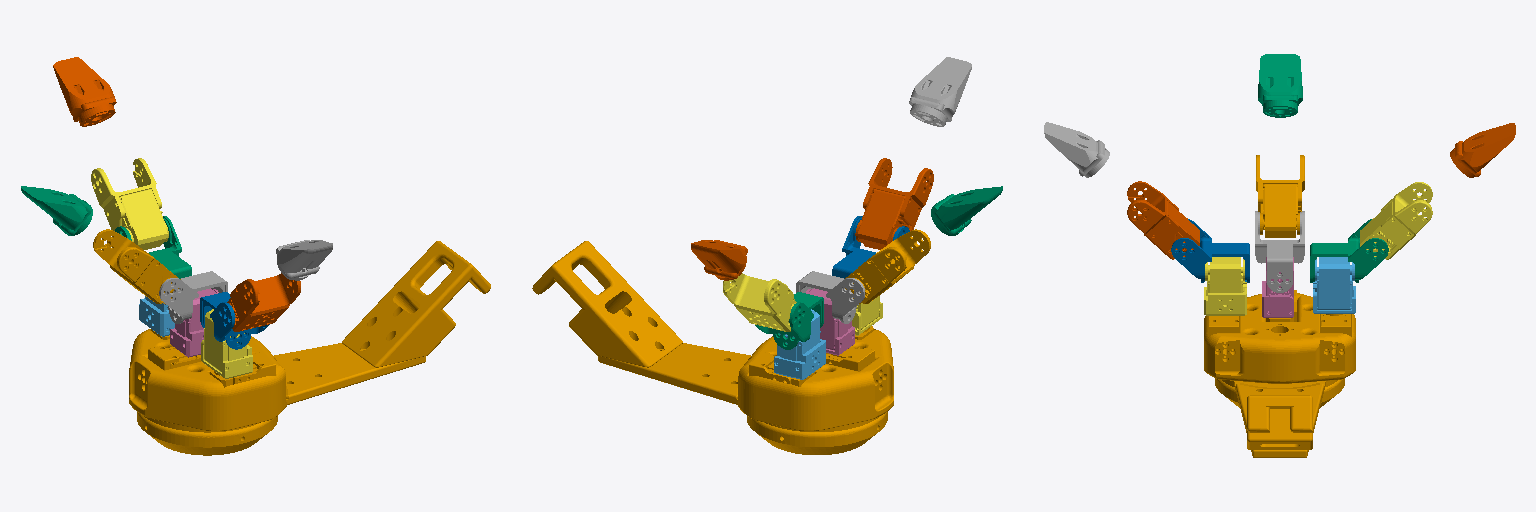
The robot description file, URDF, robot "dexremo_hand":
<?xml version="1.0"?>
<!-- DexRemo three-finger hand. Generated from the STEP assembly; see README for assumptions. -->
<robot name="dexremo_hand">
  <link name="base_link">
    <inertial><origin xyz="0.033405 0.000009 0.048806"/><mass value="1.18165"/><inertia ixx="2.098e-03" ixy="4.146e-06" ixz="-5.831e-04" iyy="8.608e-03" iyz="-4.166e-07" izz="9.446e-03"/></inertial>
    <visual><geometry><mesh filename="../meshes/dexremo_hand/visual/base_link.stl"/></geometry></visual>
    <collision><geometry><mesh filename="../meshes/dexremo_hand/collision/base_link_0.stl"/></geometry></collision>
    <collision><geometry><mesh filename="../meshes/dexremo_hand/collision/base_link_1.stl"/></geometry></collision>
    <collision><geometry><mesh filename="../meshes/dexremo_hand/collision/base_link_2.stl"/></geometry></collision>
    <collision><geometry><mesh filename="../meshes/dexremo_hand/collision/base_link_3.stl"/></geometry></collision>
    <collision><geometry><mesh filename="../meshes/dexremo_hand/collision/base_link_4.stl"/></geometry></collision>
    <collision><geometry><mesh filename="../meshes/dexremo_hand/collision/base_link_5.stl"/></geometry></collision>
    <collision><geometry><mesh filename="../meshes/dexremo_hand/collision/base_link_6.stl"/></geometry></collision>
    <collision><geometry><mesh filename="../meshes/dexremo_hand/collision/base_link_7.stl"/></geometry></collision>
    <collision><geometry><mesh filename="../meshes/dexremo_hand/collision/base_link_8.stl"/></geometry></collision>
    <collision><geometry><mesh filename="../meshes/dexremo_hand/collision/base_link_9.stl"/></geometry></collision>
    <collision><geometry><mesh filename="../meshes/dexremo_hand/collision/base_link_10.stl"/></geometry></collision>
  </link>
  <link name="left_cmc1_link">
    <inertial><origin xyz="-0.000829 -0.000130 0.042133"/><mass value="0.06543"/><inertia ixx="1.978e-05" ixy="-2.319e-08" ixz="-6.846e-07" iyy="1.667e-05" iyz="-1.726e-07" izz="1.071e-05"/></inertial>
    <visual><geometry><mesh filename="../meshes/dexremo_hand/visual/left_cmc1_link.stl"/></geometry></visual>
    <collision><geometry><mesh filename="../meshes/dexremo_hand/collision/left_cmc1_link_0.stl"/></geometry></collision>
    <collision><geometry><mesh filename="../meshes/dexremo_hand/collision/left_cmc1_link_1.stl"/></geometry></collision>
  </link>
  <joint name="left_cmc1" type="revolute"><parent link="base_link"/><child link="left_cmc1_link"/><origin xyz="-0.010908 0.049950 0.063442"/><axis xyz="0.000000 0.000000 -1.000000"/><limit lower="-1.5708" upper="1.5708" effort="1.90" velocity="4.70"/><dynamics damping="0.1"/></joint>
  <link name="left_cmc2_link">
    <inertial><origin xyz="-0.000127 0.013888 0.015825"/><mass value="0.01913"/><inertia ixx="9.806e-06" ixy="1.059e-07" ixz="4.325e-08" iyy="6.207e-06" iyz="-1.503e-06" izz="1.157e-05"/></inertial>
    <visual><geometry><mesh filename="../meshes/dexremo_hand/visual/left_cmc2_link.stl"/></geometry></visual>
    <collision><geometry><mesh filename="../meshes/dexremo_hand/collision/left_cmc2_link_0.stl"/></geometry></collision>
  </link>
  <joint name="left_cmc2" type="revolute"><parent link="left_cmc1_link"/><child link="left_cmc2_link"/><origin xyz="0.000000 -0.000100 0.058000"/><axis xyz="0.000000 -1.000000 0.000000"/><limit lower="-1.5708" upper="1.5708" effort="1.90" velocity="4.70"/><dynamics damping="0.1"/></joint>
  <link name="left_mcp_link">
    <inertial><origin xyz="-0.000258 0.013788 0.011813"/><mass value="0.07467"/><inertia ixx="2.426e-05" ixy="1.303e-08" ixz="-3.361e-08" iyy="2.189e-05" iyz="-7.499e-06" izz="2.261e-05"/></inertial>
    <visual><geometry><mesh filename="../meshes/dexremo_hand/visual/left_mcp_link.stl"/></geometry></visual>
    <collision><geometry><mesh filename="../meshes/dexremo_hand/collision/left_mcp_link_0.stl"/></geometry></collision>
    <collision><geometry><mesh filename="../meshes/dexremo_hand/collision/left_mcp_link_1.stl"/></geometry></collision>
  </link>
  <joint name="left_mcp" type="revolute"><parent link="left_cmc2_link"/><child link="left_mcp_link"/><origin xyz="0.000300 0.037800 0.030000"/><axis xyz="-1.000000 0.000000 0.000000"/><limit lower="-1.5708" upper="1.5708" effort="1.90" velocity="4.70"/><dynamics damping="0.1"/></joint>
  <link name="left_ip_link">
    <inertial><origin xyz="-0.000092 0.017236 0.017179"/><mass value="0.08726"/><inertia ixx="3.746e-05" ixy="-1.104e-07" ixz="-1.440e-07" iyy="2.639e-05" iyz="-1.357e-05" izz="2.659e-05"/></inertial>
    <visual><geometry><mesh filename="../meshes/dexremo_hand/visual/left_ip_link.stl"/></geometry></visual>
    <collision><geometry><mesh filename="../meshes/dexremo_hand/collision/left_ip_link_0.stl"/></geometry></collision>
    <collision><geometry><mesh filename="../meshes/dexremo_hand/collision/left_ip_link_1.stl"/></geometry></collision>
    <collision><geometry><mesh filename="../meshes/dexremo_hand/collision/left_ip_link_2.stl"/></geometry></collision>
    <collision><geometry><mesh filename="../meshes/dexremo_hand/collision/left_ip_link_3.stl"/></geometry></collision>
    <collision><geometry><mesh filename="../meshes/dexremo_hand/collision/left_ip_link_4.stl"/></geometry></collision>
    <collision><geometry><mesh filename="../meshes/dexremo_hand/collision/left_ip_link_5.stl"/></geometry></collision>
  </link>
  <joint name="left_ip" type="revolute"><parent link="left_mcp_link"/><child link="left_ip_link"/><origin xyz="0.000200 0.040447 0.037618"/><axis xyz="-1.000000 0.000000 0.000000"/><limit lower="-1.5708" upper="1.5708" effort="1.90" velocity="4.70"/><dynamics damping="0.1"/></joint>
  <link name="left_tip">
    <inertial><origin xyz="0.000000 0.022693 0.016960"/><mass value="0.03756"/><inertia ixx="1.581e-05" ixy="-5.619e-14" ixz="-3.162e-14" iyy="1.097e-05" iyz="-7.728e-07" izz="1.525e-05"/></inertial>
    <visual><geometry><mesh filename="../meshes/dexremo_hand/visual/left_tip.stl"/></geometry></visual>
    <collision><geometry><mesh filename="../meshes/dexremo_hand/collision/left_tip_0.stl"/></geometry></collision>
    <collision><geometry><mesh filename="../meshes/dexremo_hand/collision/left_tip_1.stl"/></geometry></collision>
  </link>
  <joint name="left_tip_fixed" type="fixed"><parent link="left_ip_link"/><child link="left_tip"/><origin xyz="-0.000100 0.035461 0.035473"/></joint>
  <link name="mid_cmc1_link">
    <inertial><origin xyz="0.000130 -0.000829 0.042133"/><mass value="0.06543"/><inertia ixx="1.667e-05" ixy="2.319e-08" ixz="1.726e-07" iyy="1.978e-05" iyz="-6.846e-07" izz="1.071e-05"/></inertial>
    <visual><geometry><mesh filename="../meshes/dexremo_hand/visual/mid_cmc1_link.stl"/></geometry></visual>
    <collision><geometry><mesh filename="../meshes/dexremo_hand/collision/mid_cmc1_link_0.stl"/></geometry></collision>
    <collision><geometry><mesh filename="../meshes/dexremo_hand/collision/mid_cmc1_link_1.stl"/></geometry></collision>
  </link>
  <joint name="mid_cmc1" type="revolute"><parent link="base_link"/><child link="mid_cmc1_link"/><origin xyz="-0.009008 -0.000050 0.063442"/><axis xyz="0.000000 0.000000 -1.000000"/><limit lower="-1.5708" upper="1.5708" effort="1.90" velocity="4.70"/><dynamics damping="0.1"/></joint>
  <link name="mid_cmc2_link">
    <inertial><origin xyz="-0.013888 -0.000127 0.015825"/><mass value="0.01913"/><inertia ixx="6.207e-06" ixy="-1.059e-07" ixz="1.503e-06" iyy="9.806e-06" iyz="4.325e-08" izz="1.157e-05"/></inertial>
    <visual><geometry><mesh filename="../meshes/dexremo_hand/visual/mid_cmc2_link.stl"/></geometry></visual>
    <collision><geometry><mesh filename="../meshes/dexremo_hand/collision/mid_cmc2_link_0.stl"/></geometry></collision>
  </link>
  <joint name="mid_cmc2" type="revolute"><parent link="mid_cmc1_link"/><child link="mid_cmc2_link"/><origin xyz="0.000100 0.000000 0.058000"/><axis xyz="1.000000 0.000000 0.000000"/><limit lower="-1.5708" upper="1.5708" effort="1.90" velocity="4.70"/><dynamics damping="0.1"/></joint>
  <link name="mid_mcp_link">
    <inertial><origin xyz="-0.013788 -0.000258 0.011813"/><mass value="0.07467"/><inertia ixx="2.189e-05" ixy="-1.303e-08" ixz="7.499e-06" iyy="2.426e-05" iyz="-3.361e-08" izz="2.261e-05"/></inertial>
    <visual><geometry><mesh filename="../meshes/dexremo_hand/visual/mid_mcp_link.stl"/></geometry></visual>
    <collision><geometry><mesh filename="../meshes/dexremo_hand/collision/mid_mcp_link_0.stl"/></geometry></collision>
    <collision><geometry><mesh filename="../meshes/dexremo_hand/collision/mid_mcp_link_1.stl"/></geometry></collision>
  </link>
  <joint name="mid_mcp" type="revolute"><parent link="mid_cmc2_link"/><child link="mid_mcp_link"/><origin xyz="-0.037800 0.000300 0.030000"/><axis xyz="0.000000 -1.000000 0.000000"/><limit lower="-1.5708" upper="1.5708" effort="1.90" velocity="4.70"/><dynamics damping="0.1"/></joint>
  <link name="mid_ip_link">
    <inertial><origin xyz="-0.017236 -0.000092 0.017179"/><mass value="0.08726"/><inertia ixx="2.639e-05" ixy="1.104e-07" ixz="1.357e-05" iyy="3.746e-05" iyz="-1.440e-07" izz="2.659e-05"/></inertial>
    <visual><geometry><mesh filename="../meshes/dexremo_hand/visual/mid_ip_link.stl"/></geometry></visual>
    <collision><geometry><mesh filename="../meshes/dexremo_hand/collision/mid_ip_link_0.stl"/></geometry></collision>
    <collision><geometry><mesh filename="../meshes/dexremo_hand/collision/mid_ip_link_1.stl"/></geometry></collision>
    <collision><geometry><mesh filename="../meshes/dexremo_hand/collision/mid_ip_link_2.stl"/></geometry></collision>
    <collision><geometry><mesh filename="../meshes/dexremo_hand/collision/mid_ip_link_3.stl"/></geometry></collision>
    <collision><geometry><mesh filename="../meshes/dexremo_hand/collision/mid_ip_link_4.stl"/></geometry></collision>
    <collision><geometry><mesh filename="../meshes/dexremo_hand/collision/mid_ip_link_5.stl"/></geometry></collision>
  </link>
  <joint name="mid_ip" type="revolute"><parent link="mid_mcp_link"/><child link="mid_ip_link"/><origin xyz="-0.040447 0.000200 0.037618"/><axis xyz="0.000000 -1.000000 0.000000"/><limit lower="-1.5708" upper="1.5708" effort="1.90" velocity="4.70"/><dynamics damping="0.1"/></joint>
  <link name="mid_tip">
    <inertial><origin xyz="-0.022803 0.000000 0.017035"/><mass value="0.03961"/><inertia ixx="1.158e-05" ixy="-1.362e-13" ixz="7.788e-07" iyy="1.665e-05" iyz="9.885e-14" izz="1.608e-05"/></inertial>
    <visual><geometry><mesh filename="../meshes/dexremo_hand/visual/mid_tip.stl"/></geometry></visual>
    <collision><geometry><mesh filename="../meshes/dexremo_hand/collision/mid_tip_0.stl"/></geometry></collision>
    <collision><geometry><mesh filename="../meshes/dexremo_hand/collision/mid_tip_1.stl"/></geometry></collision>
  </link>
  <joint name="mid_tip_fixed" type="fixed"><parent link="mid_ip_link"/><child link="mid_tip"/><origin xyz="-0.035461 -0.000100 0.035473"/></joint>
  <link name="right_cmc1_link">
    <inertial><origin xyz="0.000829 0.000130 0.042133"/><mass value="0.06543"/><inertia ixx="1.978e-05" ixy="-2.319e-08" ixz="6.846e-07" iyy="1.667e-05" iyz="1.726e-07" izz="1.071e-05"/></inertial>
    <visual><geometry><mesh filename="../meshes/dexremo_hand/visual/right_cmc1_link.stl"/></geometry></visual>
    <collision><geometry><mesh filename="../meshes/dexremo_hand/collision/right_cmc1_link_0.stl"/></geometry></collision>
    <collision><geometry><mesh filename="../meshes/dexremo_hand/collision/right_cmc1_link_1.stl"/></geometry></collision>
  </link>
  <joint name="right_cmc1" type="revolute"><parent link="base_link"/><child link="right_cmc1_link"/><origin xyz="-0.011008 -0.050050 0.063642"/><axis xyz="0.000000 0.000000 -1.000000"/><limit lower="-1.5708" upper="1.5708" effort="1.90" velocity="4.70"/><dynamics damping="0.1"/></joint>
  <link name="right_cmc2_link">
    <inertial><origin xyz="0.000127 -0.013888 0.015825"/><mass value="0.01913"/><inertia ixx="9.806e-06" ixy="1.059e-07" ixz="-4.325e-08" iyy="6.207e-06" iyz="1.503e-06" izz="1.157e-05"/></inertial>
    <visual><geometry><mesh filename="../meshes/dexremo_hand/visual/right_cmc2_link.stl"/></geometry></visual>
    <collision><geometry><mesh filename="../meshes/dexremo_hand/collision/right_cmc2_link_0.stl"/></geometry></collision>
  </link>
  <joint name="right_cmc2" type="revolute"><parent link="right_cmc1_link"/><child link="right_cmc2_link"/><origin xyz="0.000000 0.000100 0.058000"/><axis xyz="0.000000 1.000000 0.000000"/><limit lower="-1.5708" upper="1.5708" effort="1.90" velocity="4.70"/><dynamics damping="0.1"/></joint>
  <link name="right_mcp_link">
    <inertial><origin xyz="0.000258 -0.013788 0.011813"/><mass value="0.07467"/><inertia ixx="2.426e-05" ixy="1.303e-08" ixz="3.361e-08" iyy="2.189e-05" iyz="7.499e-06" izz="2.261e-05"/></inertial>
    <visual><geometry><mesh filename="../meshes/dexremo_hand/visual/right_mcp_link.stl"/></geometry></visual>
    <collision><geometry><mesh filename="../meshes/dexremo_hand/collision/right_mcp_link_0.stl"/></geometry></collision>
    <collision><geometry><mesh filename="../meshes/dexremo_hand/collision/right_mcp_link_1.stl"/></geometry></collision>
  </link>
  <joint name="right_mcp" type="revolute"><parent link="right_cmc2_link"/><child link="right_mcp_link"/><origin xyz="-0.000300 -0.037800 0.030000"/><axis xyz="1.000000 0.000000 0.000000"/><limit lower="-1.5708" upper="1.5708" effort="1.90" velocity="4.70"/><dynamics damping="0.1"/></joint>
  <link name="right_ip_link">
    <inertial><origin xyz="0.000092 -0.017176 0.017240"/><mass value="0.08726"/><inertia ixx="3.738e-05" ixy="-1.105e-07" ixz="1.439e-07" iyy="2.663e-05" iyz="1.362e-05" izz="2.643e-05"/></inertial>
    <visual><geometry><mesh filename="../meshes/dexremo_hand/visual/right_ip_link.stl"/></geometry></visual>
    <collision><geometry><mesh filename="../meshes/dexremo_hand/collision/right_ip_link_0.stl"/></geometry></collision>
    <collision><geometry><mesh filename="../meshes/dexremo_hand/collision/right_ip_link_1.stl"/></geometry></collision>
    <collision><geometry><mesh filename="../meshes/dexremo_hand/collision/right_ip_link_2.stl"/></geometry></collision>
    <collision><geometry><mesh filename="../meshes/dexremo_hand/collision/right_ip_link_3.stl"/></geometry></collision>
    <collision><geometry><mesh filename="../meshes/dexremo_hand/collision/right_ip_link_4.stl"/></geometry></collision>
    <collision><geometry><mesh filename="../meshes/dexremo_hand/collision/right_ip_link_5.stl"/></geometry></collision>
  </link>
  <joint name="right_ip" type="revolute"><parent link="right_mcp_link"/><child link="right_ip_link"/><origin xyz="-0.000200 -0.040447 0.037618"/><axis xyz="1.000000 0.000000 0.000000"/><limit lower="-1.5708" upper="1.5708" effort="1.90" velocity="4.70"/><dynamics damping="0.1"/></joint>
  <link name="right_tip">
    <inertial><origin xyz="-0.000000 -0.022693 0.016960"/><mass value="0.03756"/><inertia ixx="1.581e-05" ixy="-1.473e-14" ixz="-1.343e-14" iyy="1.097e-05" iyz="7.728e-07" izz="1.525e-05"/></inertial>
    <visual><geometry><mesh filename="../meshes/dexremo_hand/visual/right_tip.stl"/></geometry></visual>
    <collision><geometry><mesh filename="../meshes/dexremo_hand/collision/right_tip_0.stl"/></geometry></collision>
    <collision><geometry><mesh filename="../meshes/dexremo_hand/collision/right_tip_1.stl"/></geometry></collision>
  </link>
  <joint name="right_tip_fixed" type="fixed"><parent link="right_ip_link"/><child link="right_tip"/><origin xyz="0.000100 -0.035461 0.035473"/></joint>
</robot>

--- Facts derived from the render (not from the file) ---
Views: 3 orthographic renders of the robot side by side, from view 1: azimuth 30°, elevation 25°; view 2: azimuth 150°, elevation 25°; view 3: azimuth 270°, elevation 25°.
Robot: dexremo_hand — 16 links, 15 joints (12 revolute, 3 fixed); root link base_link; default pose: every joint at zero.
Links seen in each view (by area): view 1: base_link, left_mcp_link, left_tip, mid_mcp_link, right_mcp_link, mid_tip, mid_cmc2_link, right_cmc1_link, right_tip, right_cmc2_link, mid_cmc1_link, left_cmc2_link (+1 smaller); view 2: base_link, right_mcp_link, left_mcp_link, right_tip, mid_mcp_link, mid_tip, left_cmc1_link, mid_cmc2_link, left_tip, left_cmc2_link, mid_cmc1_link, right_cmc2_link (+1 smaller); view 3: base_link, right_mcp_link, left_mcp_link, mid_mcp_link, mid_tip, right_cmc1_link, left_cmc1_link, mid_cmc2_link, left_tip, right_tip, left_cmc2_link, right_cmc2_link (+1 smaller).
Link boxes in pixels (box(x1,y1,x2,y2)): base_link: box(129, 241, 490, 455); left_mcp_link: box(91, 158, 168, 249); left_tip: box(53, 57, 116, 126); mid_mcp_link: box(93, 229, 180, 303); right_mcp_link: box(227, 273, 300, 331); mid_tip: box(21, 186, 92, 235); mid_cmc2_link: box(159, 271, 227, 323); right_cmc1_link: box(201, 309, 252, 378); right_tip: box(276, 240, 332, 280); right_cmc2_link: box(200, 292, 269, 349); mid_cmc1_link: box(170, 288, 218, 357); left_cmc2_link: box(115, 216, 191, 278); base_link: box(532, 241, 893, 454); right_mcp_link: box(855, 158, 933, 249); left_mcp_link: box(723, 273, 796, 331); right_tip: box(909, 57, 971, 126); mid_mcp_link: box(845, 229, 930, 303); mid_tip: box(931, 186, 1002, 235); left_cmc1_link: box(774, 309, 825, 379); mid_cmc2_link: box(796, 271, 864, 323); left_tip: box(691, 240, 747, 280); left_cmc2_link: box(755, 292, 823, 349); mid_cmc1_link: box(806, 288, 854, 355); right_cmc2_link: box(832, 216, 909, 278); base_link: box(1204, 290, 1355, 457); right_mcp_link: box(1127, 181, 1199, 259); left_mcp_link: box(1360, 182, 1432, 259); mid_mcp_link: box(1256, 155, 1304, 237); mid_tip: box(1258, 54, 1302, 117); right_cmc1_link: box(1204, 257, 1246, 315); left_cmc1_link: box(1313, 257, 1355, 313); mid_cmc2_link: box(1255, 211, 1304, 292); left_tip: box(1450, 123, 1515, 177); right_tip: box(1044, 122, 1109, 177); left_cmc2_link: box(1310, 219, 1388, 282); right_cmc2_link: box(1171, 219, 1249, 282).
Size in the robot's own frame: 0.4364 by 0.4323 by 0.2643 metres.
Meshes: 16 distinct files referenced, 13 mesh visuals loaded (13 binary STL); not drawn: 3 (reference not matched to a file when rendering).
